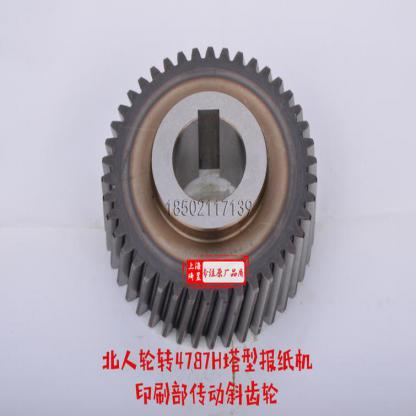FOD: (98, 41, 320, 348)
